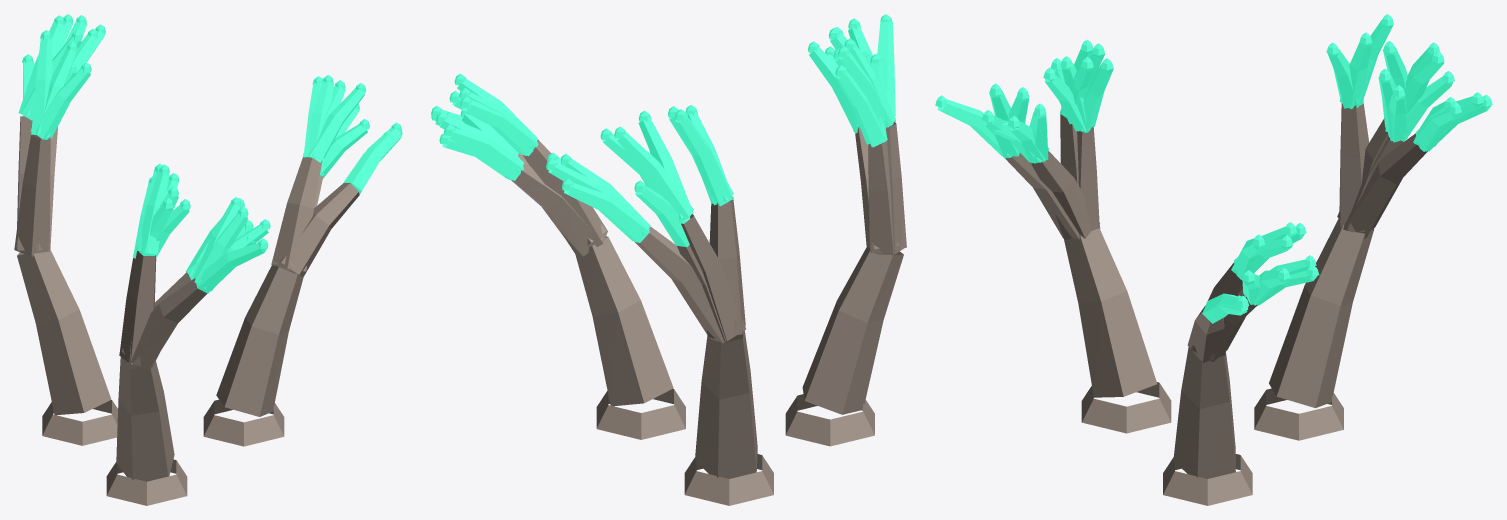
File: coral_v02.glb
3 renders of one model, left to right at view 1: azimuth 30°, elevation 25°; view 2: azimuth 150°, elevation 25°; view 3: azimuth 270°, elevation 25°, orthographic. The views are drawn at different scales.
Parts seen in each view (by area): view 1: mushroom_coral_flesh_nocol, mushroom_coral_glow_nocol; view 2: mushroom_coral_flesh_nocol, mushroom_coral_glow_nocol; view 3: mushroom_coral_flesh_nocol, mushroom_coral_glow_nocol.
Part boxes in pixels (x1,y1,x2,y2): mushroom_coral_flesh_nocol: [14, 116, 359, 505]; mushroom_coral_glow_nocol: [18, 14, 402, 293]; mushroom_coral_flesh_nocol: [511, 120, 906, 505]; mushroom_coral_glow_nocol: [431, 14, 895, 247]; mushroom_coral_flesh_nocol: [1003, 102, 1427, 505]; mushroom_coral_glow_nocol: [935, 14, 1492, 323].
Bounding box in the file's own units: 1.34 × 1.33 × 1.66.
